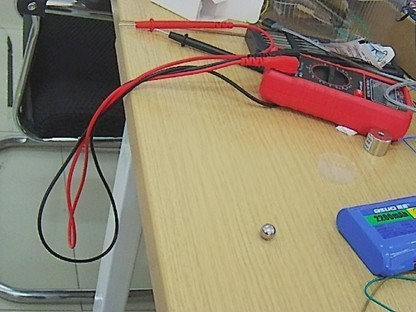ironball: (254, 218, 278, 243)
